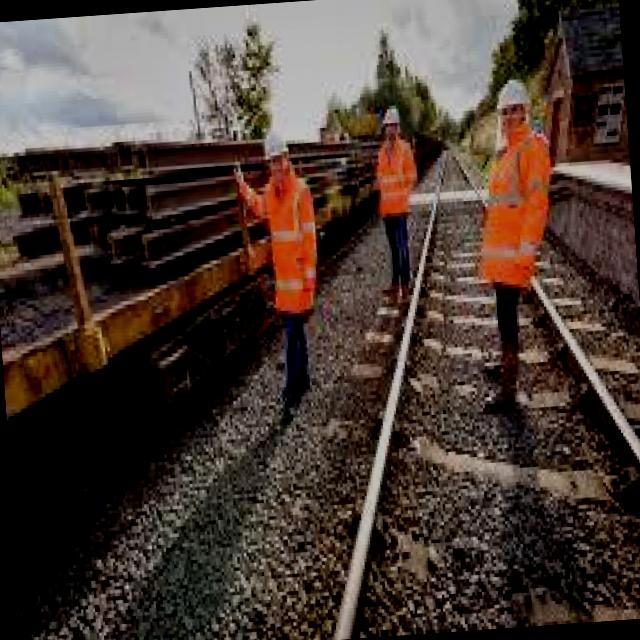danger: (213, 119, 330, 399), (468, 71, 563, 386), (367, 94, 423, 295)
rail: (298, 145, 640, 639)
